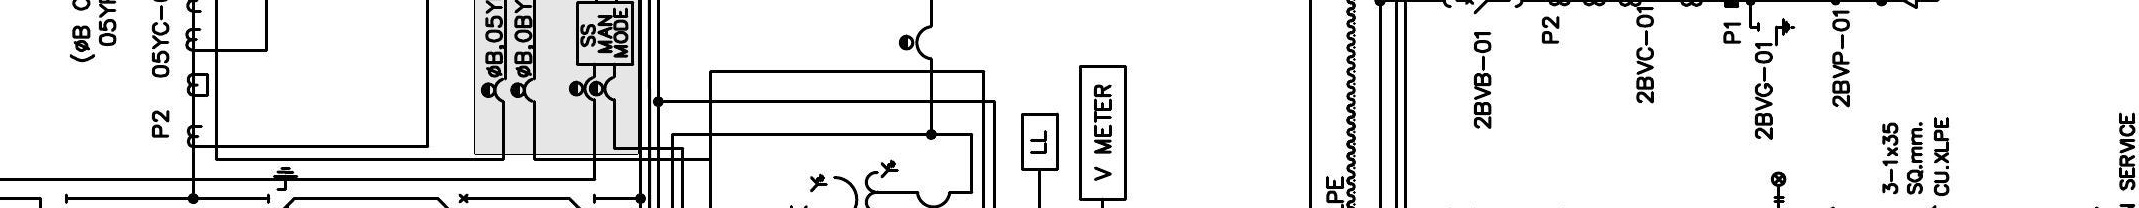22_gs: (1757, 18, 1797, 48)
22_ll: (1770, 171, 1787, 203)
LL: (1020, 112, 1060, 172)
ss_man_mode: (576, 1, 634, 66)
v_m_digital: (1078, 64, 1128, 202)
